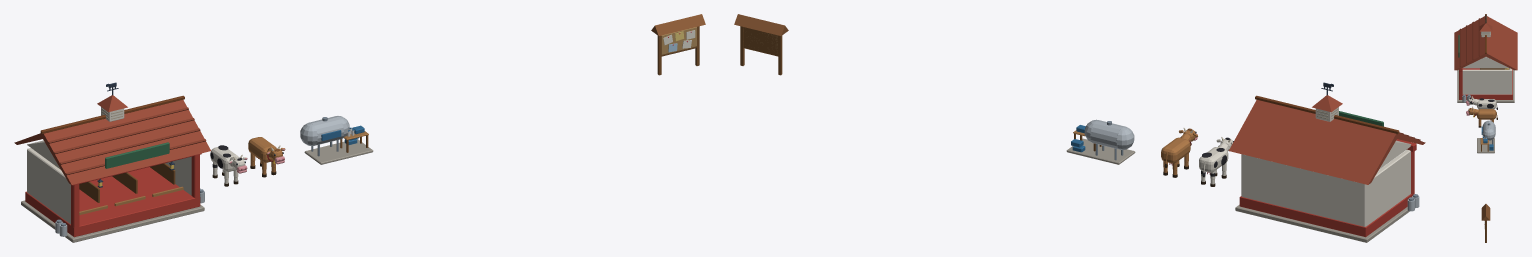
Rendered from farm-dairy.glb.
3 views of the same model, side by side, from view 1: azimuth 30°, elevation 25°; view 2: azimuth 150°, elevation 25°; view 3: azimuth 270°, elevation 25° (orthographic). The views are drawn at different scales.
Parts seen in each view (by area): view 1: fm_cowbarn_mesh, fm_dairy_mesh, fm_orders_mesh, fm_cow_mesh, fm_cow_brown_mesh; view 2: fm_cowbarn_mesh, fm_dairy_mesh, fm_orders_mesh, fm_cow_mesh, fm_cow_brown_mesh; view 3: fm_cowbarn_mesh, fm_dairy_mesh, fm_cow_brown_mesh, fm_orders_mesh, fm_cow_mesh, fm_cow_head_mesh, fm_cow_brown_head_mesh.
Part boxes in pixels (x1=…): fm_cowbarn_mesh: x1=14, y1=87, x2=210, y2=242; fm_dairy_mesh: x1=300, y1=116, x2=373, y2=164; fm_orders_mesh: x1=651, y1=14, x2=705, y2=75; fm_cow_mesh: x1=210, y1=145, x2=238, y2=171; fm_cow_brown_mesh: x1=248, y1=137, x2=276, y2=162; fm_cowbarn_mesh: x1=1229, y1=87, x2=1425, y2=242; fm_dairy_mesh: x1=1066, y1=119, x2=1135, y2=164; fm_orders_mesh: x1=734, y1=14, x2=788, y2=75; fm_cow_mesh: x1=1199, y1=147, x2=1228, y2=174; fm_cow_brown_mesh: x1=1161, y1=137, x2=1190, y2=165; fm_cowbarn_mesh: x1=1454, y1=14, x2=1517, y2=102; fm_dairy_mesh: x1=1477, y1=120, x2=1495, y2=153; fm_cow_brown_mesh: x1=1477, y1=109, x2=1496, y2=120; fm_orders_mesh: x1=1481, y1=204, x2=1490, y2=242; fm_cow_mesh: x1=1477, y1=98, x2=1496, y2=109; fm_cow_head_mesh: x1=1466, y1=96, x2=1474, y2=104; fm_cow_brown_head_mesh: x1=1466, y1=106, x2=1474, y2=114.
Bounding box in the file's own units: 35.07 × 6.35 × 5.3.
